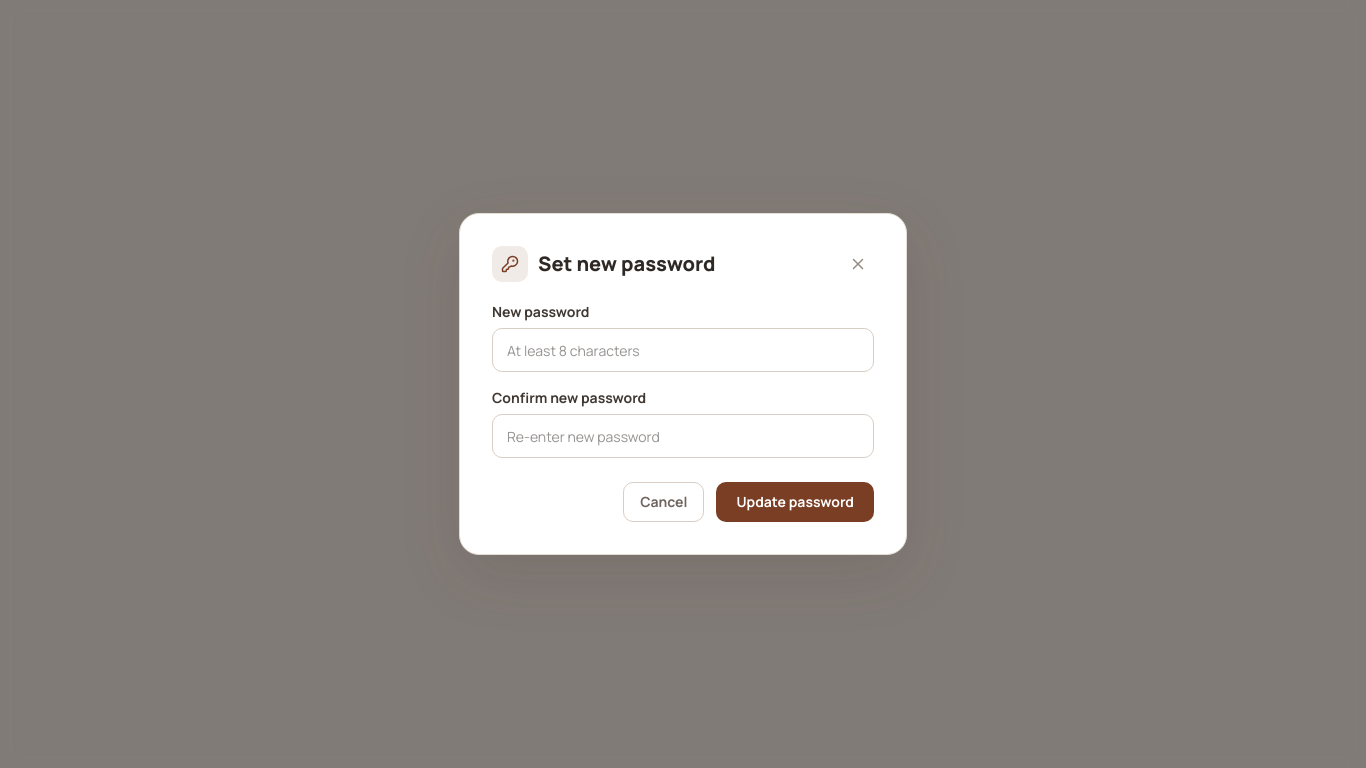
PasswordResetDialog › updates the password before ending the recovery session
Type "replacement-password" into the password field labelled "New password" at (683, 350), box [492,328,874,372]
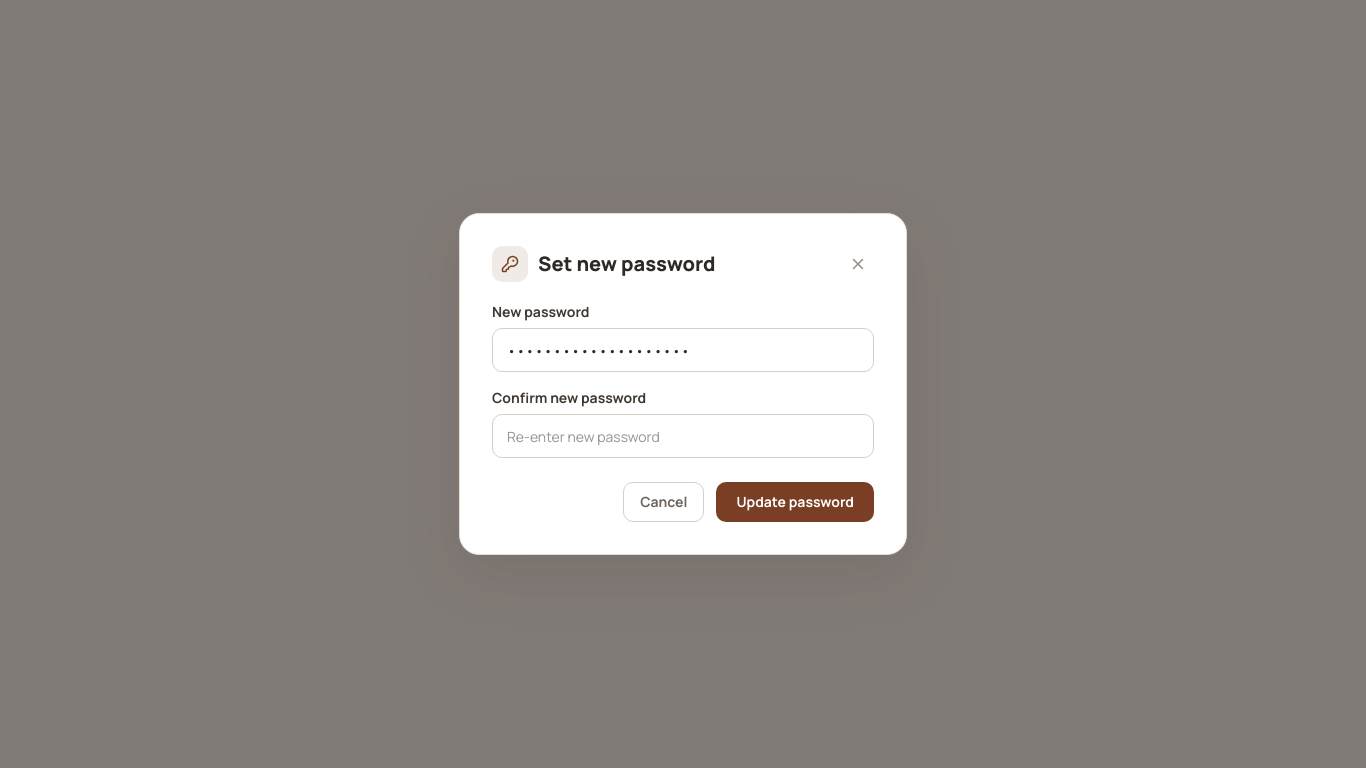
Type "replacement-password" into the password field labelled "Confirm new password" at (683, 436), box [492,414,874,458]
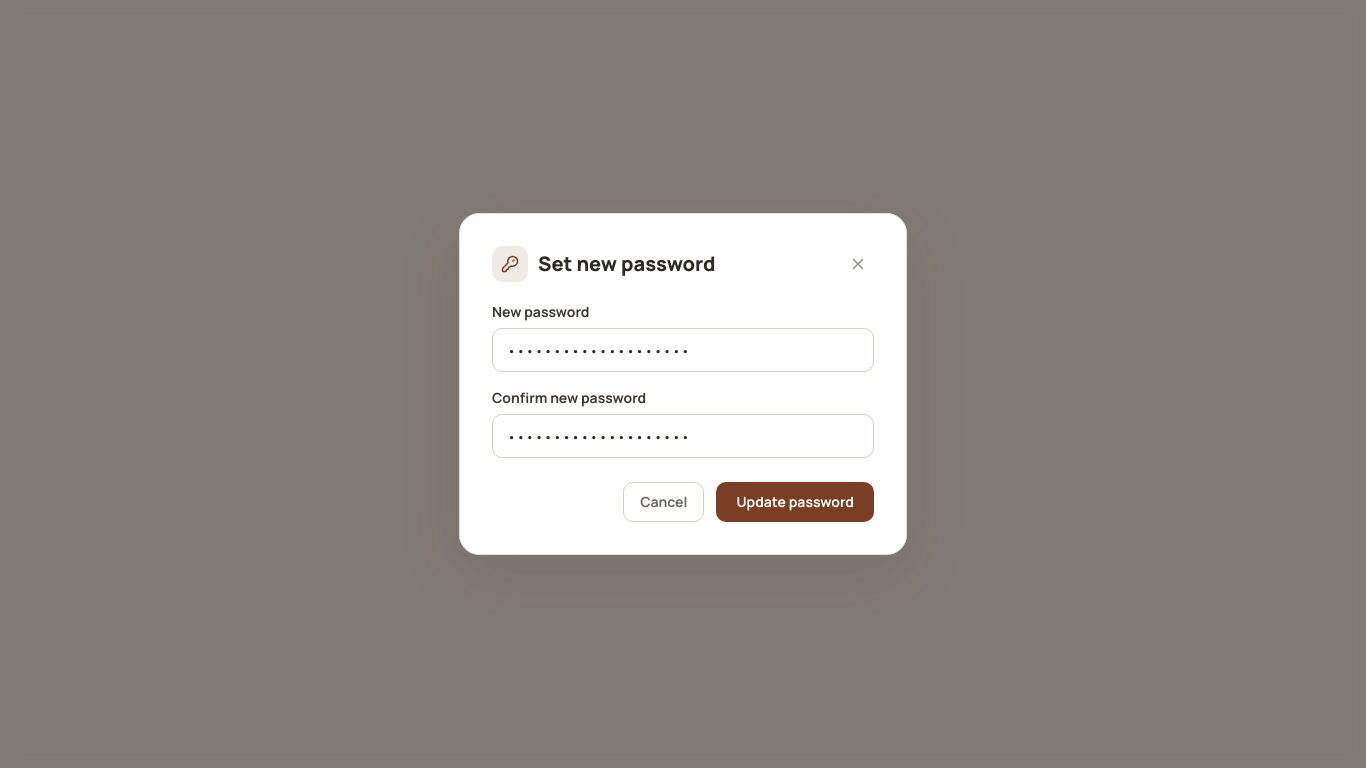
Click the button "Update password" at (795, 502), box [716,482,874,522]
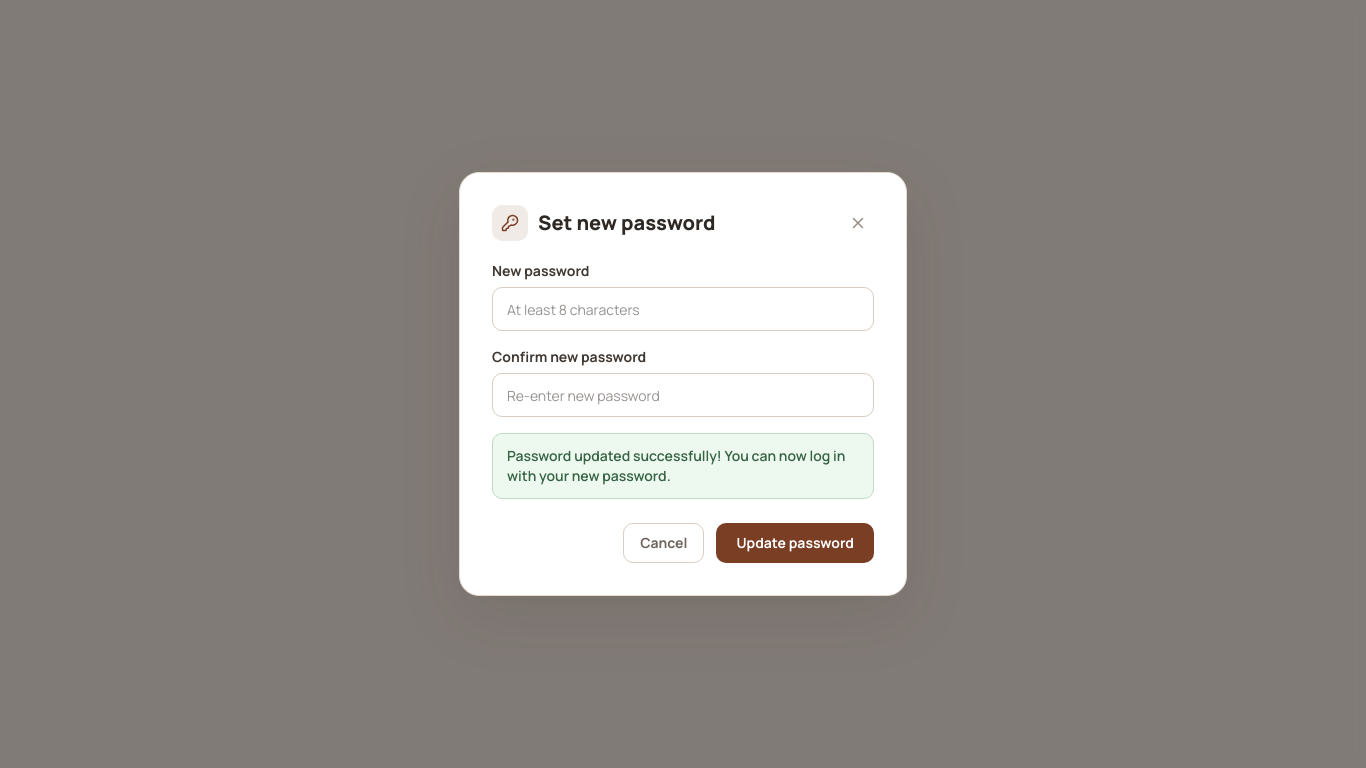
Result: the message shows "Password updated successfully" at [507,446,845,485]
